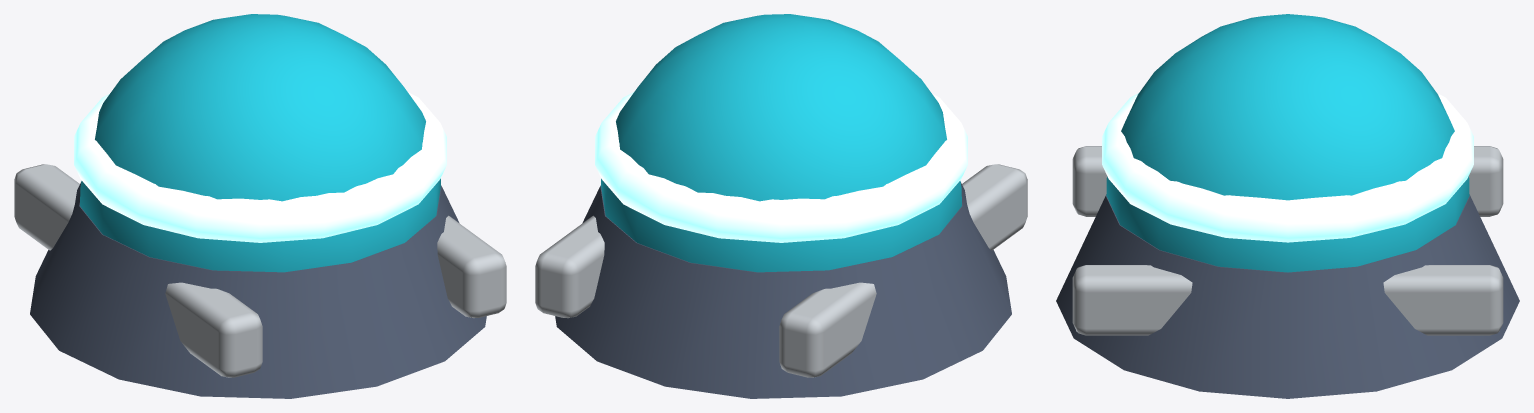
File: hero-shooter-harbour-payload-item-proximity-mine-eaff1cab__27673.glb
3 views of the same model, side by side, from view 1: azimuth 30°, elevation 25°; view 2: azimuth 150°, elevation 25°; view 3: azimuth 270°, elevation 25° (orthographic).
Parts seen in each view (by area): view 1: item-proximity-mine; view 2: item-proximity-mine; view 3: item-proximity-mine.
Part boxes in pixels (left/top/right/bottom): item-proximity-mine: left=14, top=14, right=506, bottom=398; item-proximity-mine: left=535, top=14, right=1027, bottom=398; item-proximity-mine: left=1056, top=14, right=1519, bottom=398.
Size of the model in its own units: 0.28 by 0.18 by 0.28.
